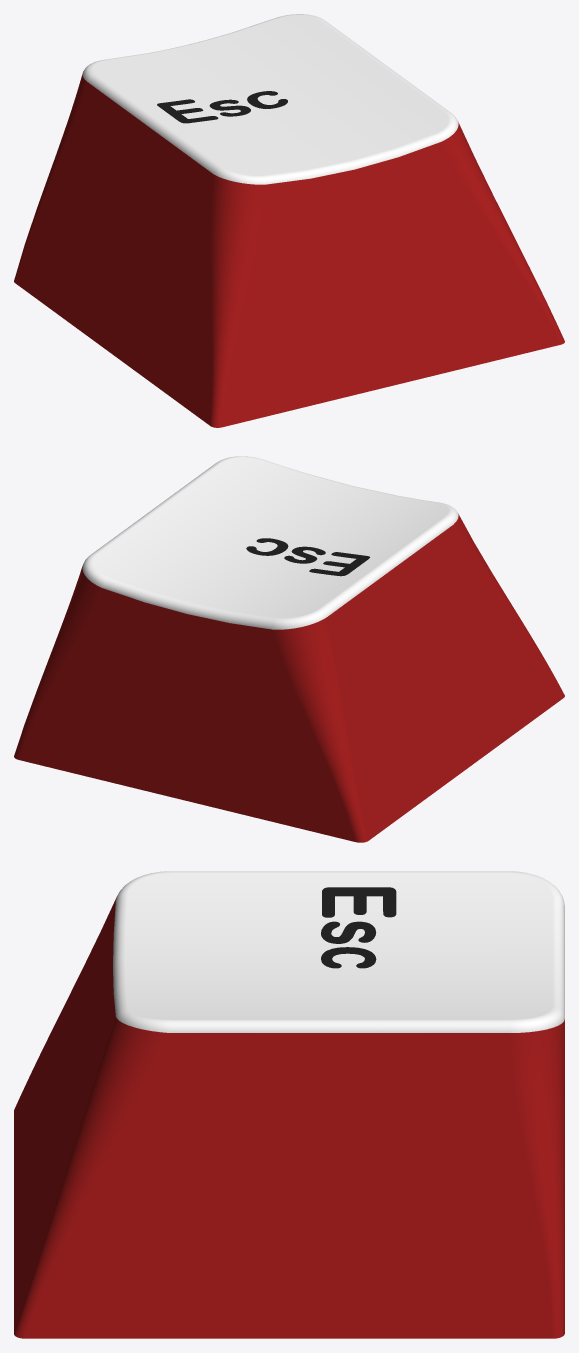
The model's file is Esc.fbx.
The picture shows the model from 3 angles, top to bottom: view 1: azimuth 30°, elevation 25°; view 2: azimuth 150°, elevation 25°; view 3: azimuth 270°, elevation 25°; orthographic projection. The views are drawn at different scales.
Parts seen in each view (by area): view 1: Body1; view 2: Body1; view 3: Body1.
Part boxes in pixels (<box>): Body1: <box>14,14,564,427</box>; Body1: <box>14,456,564,842</box>; Body1: <box>14,871,564,1338</box>.
Bounding box in the file's own units: 18 × 9.95 × 18.
